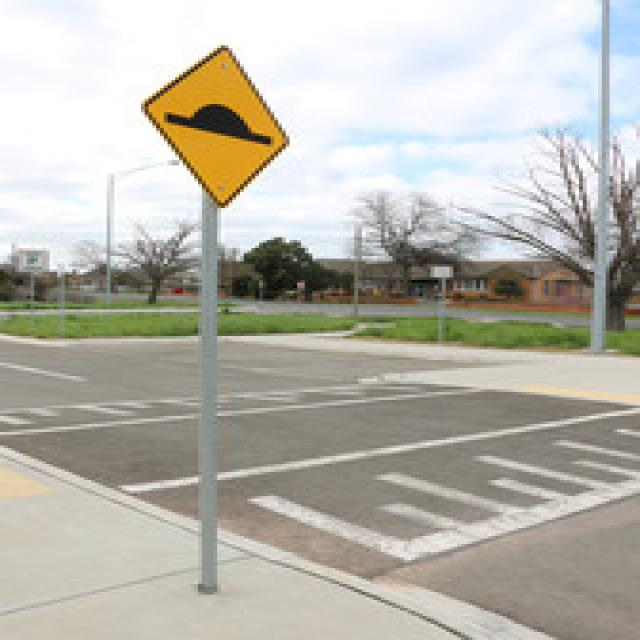hump: (143, 39, 294, 210)
